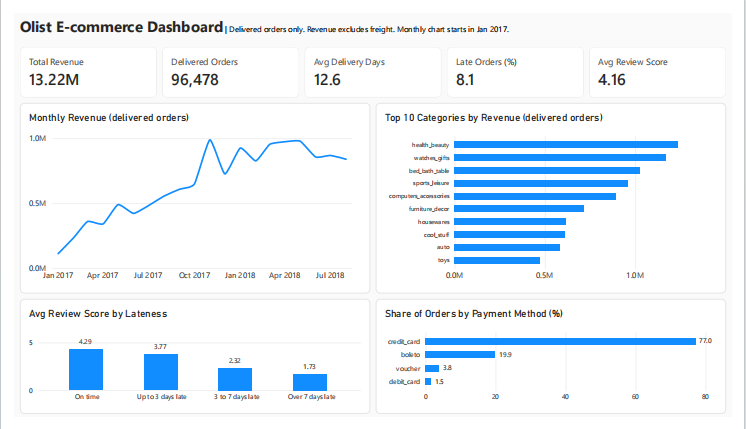

The dashboard page shown, as its layout file describes it:
{"tool":"powerbi","page":{"name":"Page 1","canvas":[1280,720],"ordinal":0},"visuals":[{"type":"lineChart","title":"Monthly Revenue (delivered orders)","fields":{"Category":["monthly_revenue.month"],"Y":["Sum(monthly_revenue.revenue)"]},"box":[10,160,625,340],"z":0},{"type":"clusteredBarChart","title":"Top 10 Categories by Revenue (delivered orders)","fields":{"Category":["top_categories.category"],"Y":["Sum(top_categories.revenue)"]},"box":[645,160,625,340],"z":1000},{"type":"cardVisual","fields":{"Data":["Sum(kpis.total_revenue)"]},"box":[10,60,244,90],"z":2000},{"type":"cardVisual","fields":{"Data":["Sum(kpis.delivered_orders)"]},"box":[264,60,244,90],"z":3000},{"type":"cardVisual","fields":{"Data":["Sum(kpis.avg_delivery_days)"]},"box":[518,60,244,90],"z":4000},{"type":"cardVisual","fields":{"Data":["Sum(kpis.late_pct)"]},"box":[772,60,244,90],"z":5000},{"type":"cardVisual","fields":{"Data":["Sum(kpis.avg_review_score)"]},"box":[1026,60,244,90],"z":6000},{"type":"clusteredColumnChart","title":"Avg Review Score by Lateness","fields":{"Category":["review_lateness.lateness_group"],"Y":["Sum(review_lateness.avg_review_score)"]},"box":[10,510,625,205],"z":7000},{"type":"clusteredBarChart","title":"Share of Orders by Payment Method (%)","fields":{"Category":["payment_methods.payment_type"],"Y":["Sum(payment_methods.pct_orders)"]},"box":[645,510,625,205],"z":8000},{"type":"textbox","box":[100,100,300,300],"z":8001},{"type":"textbox","box":[100,100,300,300],"z":8002},{"type":"textbox","box":[100.4,227.2,299.2,172.3],"z":8003},{"type":"textbox","box":[10,5,1260,50],"z":8004}]}

Visuals, with their boxes in screenshot pixels (x1, y1, x2, y2), scaled from the page's 1280x720 canvas onto the 746x429 screenshot:
"Monthly Revenue (delivered orders)" lineChart: detection(6, 95, 370, 298)
"Top 10 Categories by Revenue (delivered orders)" clusteredBarChart: detection(376, 95, 740, 298)
cardVisual - Sum(kpis.total_revenue): detection(6, 36, 148, 89)
cardVisual - Sum(kpis.delivered_orders): detection(154, 36, 296, 89)
cardVisual - Sum(kpis.avg_delivery_days): detection(302, 36, 444, 89)
cardVisual - Sum(kpis.late_pct): detection(450, 36, 592, 89)
cardVisual - Sum(kpis.avg_review_score): detection(598, 36, 740, 89)
"Avg Review Score by Lateness" clusteredColumnChart: detection(6, 304, 370, 426)
"Share of Orders by Payment Method (%)" clusteredBarChart: detection(376, 304, 740, 426)
textbox: detection(58, 60, 233, 238)
textbox: detection(58, 60, 233, 238)
textbox: detection(59, 135, 233, 238)
textbox: detection(6, 3, 740, 33)
